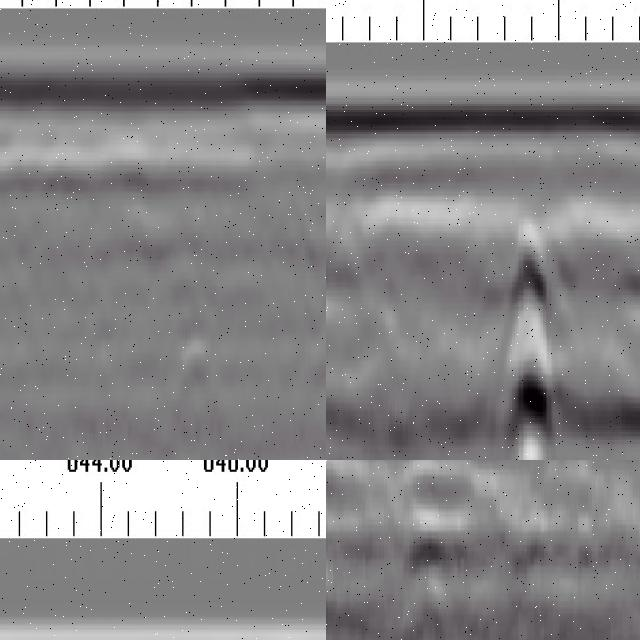crack: (503, 204, 555, 461)
